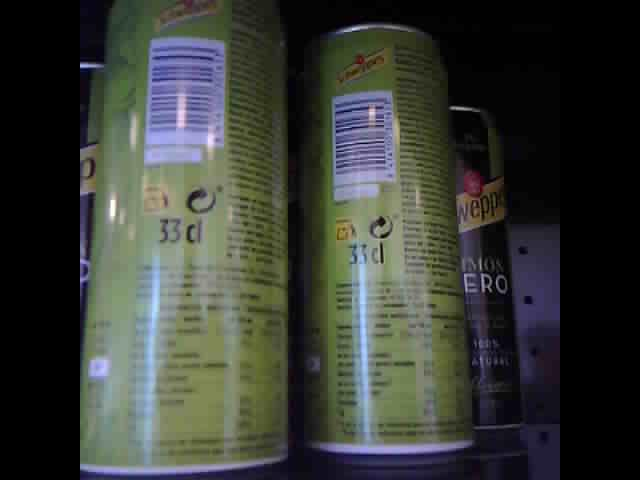schweppes: (79, 1, 291, 476), (302, 28, 478, 463), (442, 93, 519, 437)
